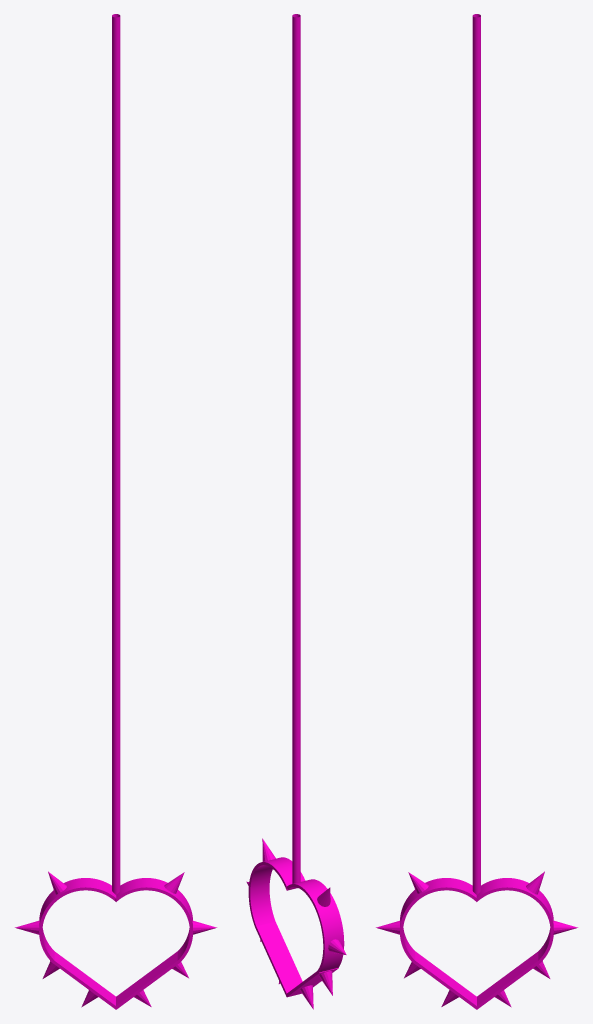
The model's file is cutter5_heart.fbx.
3 renders of one model, left to right at view 1: azimuth 90°, elevation 25°; view 2: azimuth 210°, elevation 25°; view 3: azimuth 270°, elevation 25°, orthographic.
Visible parts, largest first — view 1: Cutter5_Heart; view 2: Cutter5_Heart; view 3: Cutter5_Heart.
Part boxes in pixels (box(x1,y1,x2,y2)): Cutter5_Heart: box(15, 14, 216, 1009); Cutter5_Heart: box(246, 14, 346, 1009); Cutter5_Heart: box(376, 14, 577, 1009).
Size of the model in its own units: 16.8 by 813 by 151.
